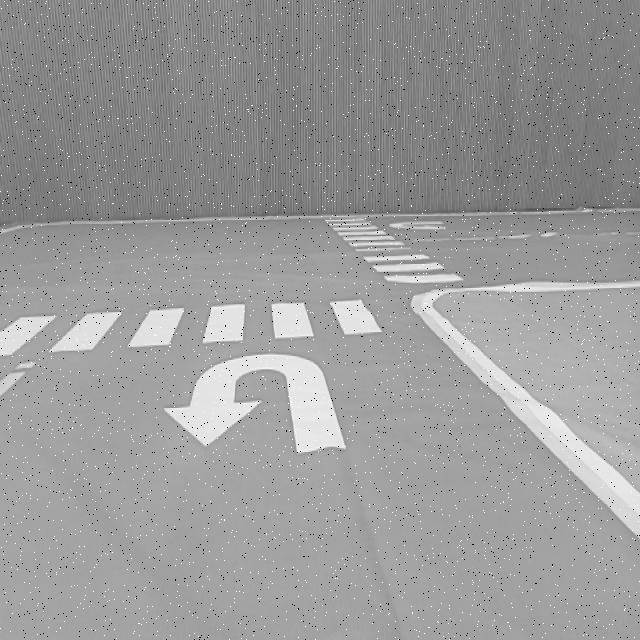left_lane: (0, 360, 37, 402)
right_lane: (412, 308, 640, 539)
